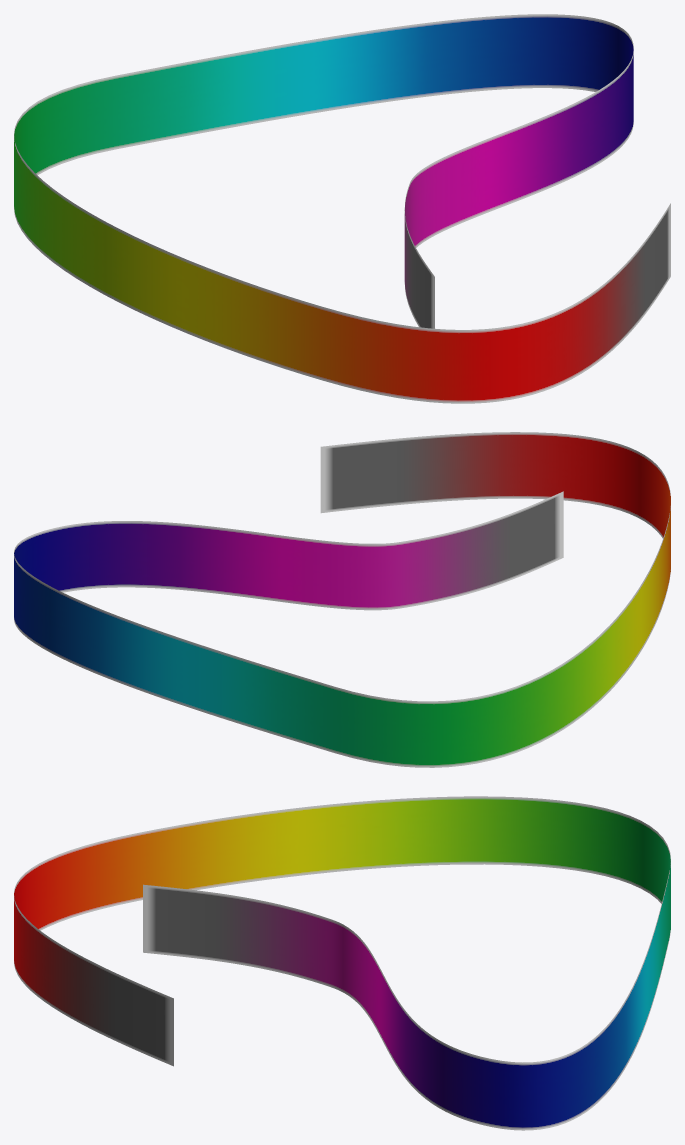
Rendered from auroraStrip_2.FBX.
3 views of the same model, one above another, from view 1: azimuth 30°, elevation 25°; view 2: azimuth 150°, elevation 25°; view 3: azimuth 270°, elevation 25° (orthographic). The views are drawn at different scales.
Visible parts, largest first — view 1: Line001; view 2: Line001; view 3: Line001.
Boxes of the visible parts, box(x1,y1,x2,y2) form: Line001: box(14, 14, 670, 403); Line001: box(14, 432, 670, 767); Line001: box(14, 796, 670, 1130).
Bounding box in the file's own units: 168 × 20 × 175.
